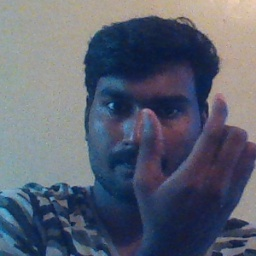U: (133, 89, 256, 234)
